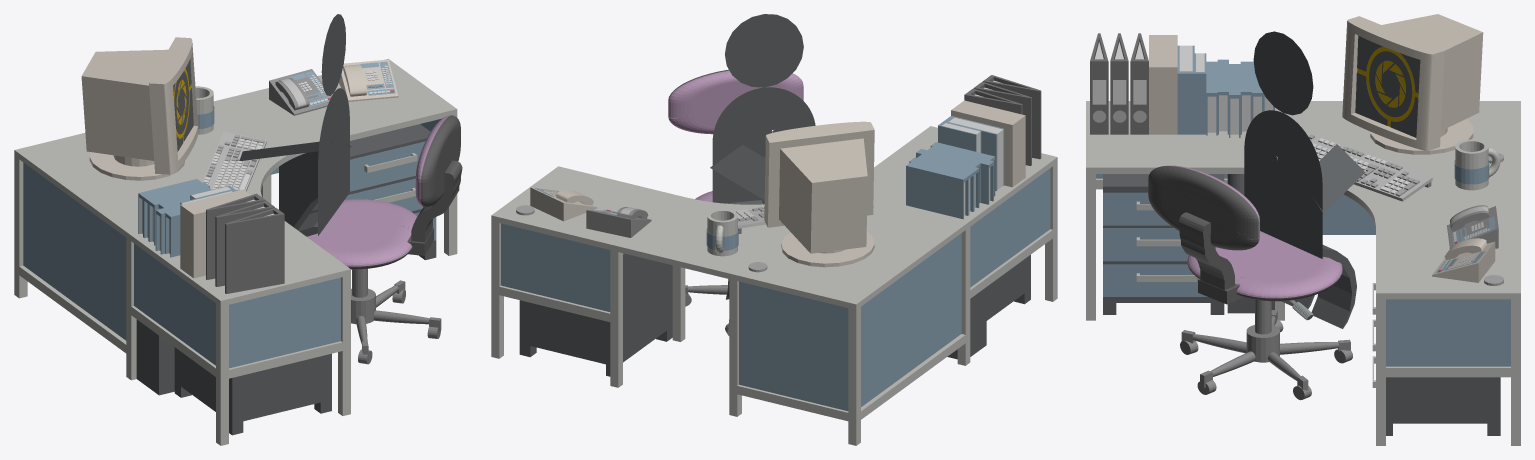
File: OficeComplete1.glb
The picture shows the model from 3 angles, left to right: view 1: azimuth 30°, elevation 25°; view 2: azimuth 150°, elevation 25°; view 3: azimuth 270°, elevation 25°; orthographic projection. The views are drawn at different scales.
Visible parts, largest first — view 1: Mesh_Mesh_head_geo.001_lambert2SG.001; view 2: Mesh_Mesh_head_geo.001_lambert2SG.001; view 3: Mesh_Mesh_head_geo.001_lambert2SG.001.
Boxes of the visible parts, x1,y1,x2,y2 form: Mesh_Mesh_head_geo.001_lambert2SG.001: (14,14,462,445); Mesh_Mesh_head_geo.001_lambert2SG.001: (491,14,1057,445); Mesh_Mesh_head_geo.001_lambert2SG.001: (1086,14,1520,445).
Bounding box in the file's own units: 67.5 × 53.4 × 64.5.
